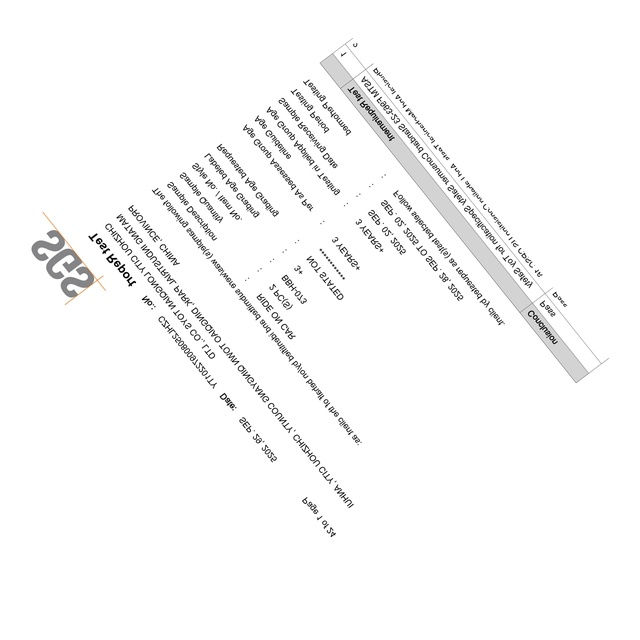sgs: (31, 231, 97, 298)
